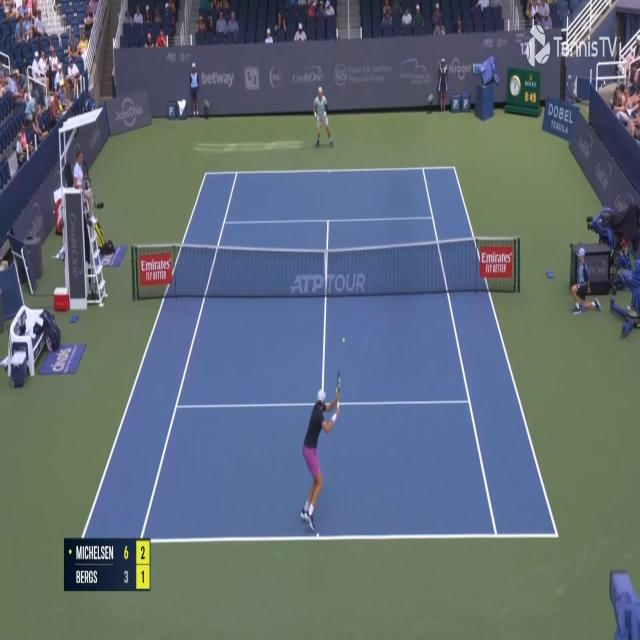tennis-player: (297, 366, 344, 537), (312, 85, 336, 151)
